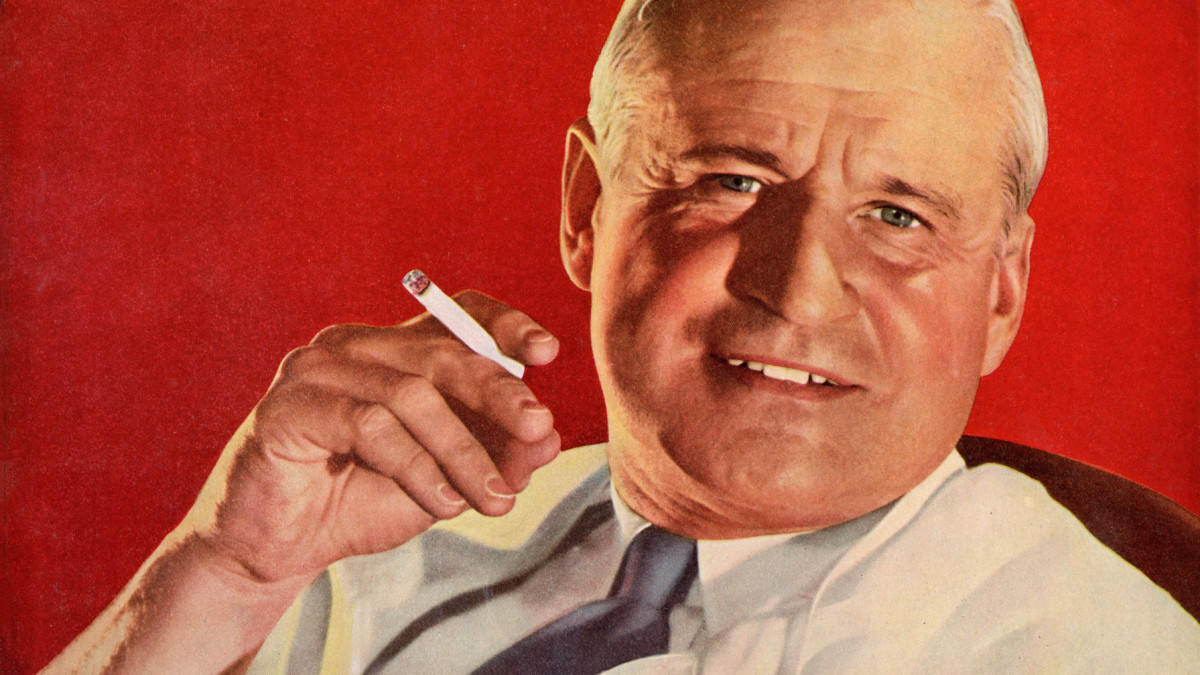cigarette: (398, 271, 541, 389)
